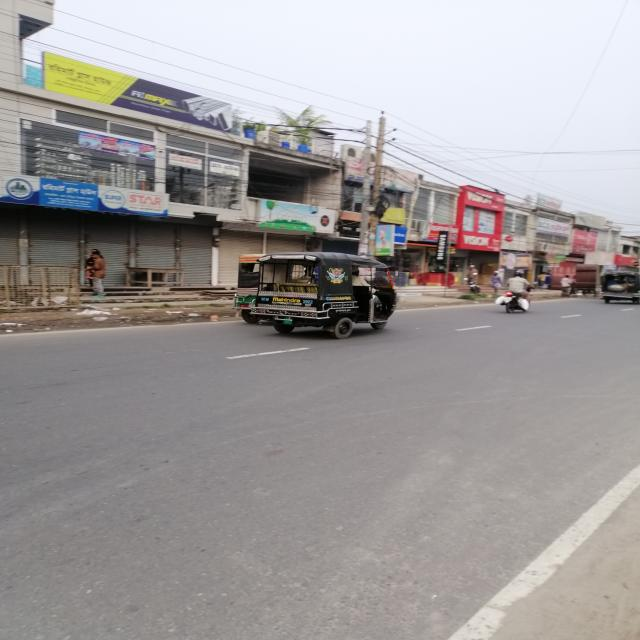Easybike: (257, 247, 409, 347), (591, 270, 640, 310)
Motorbike: (488, 288, 545, 315)
